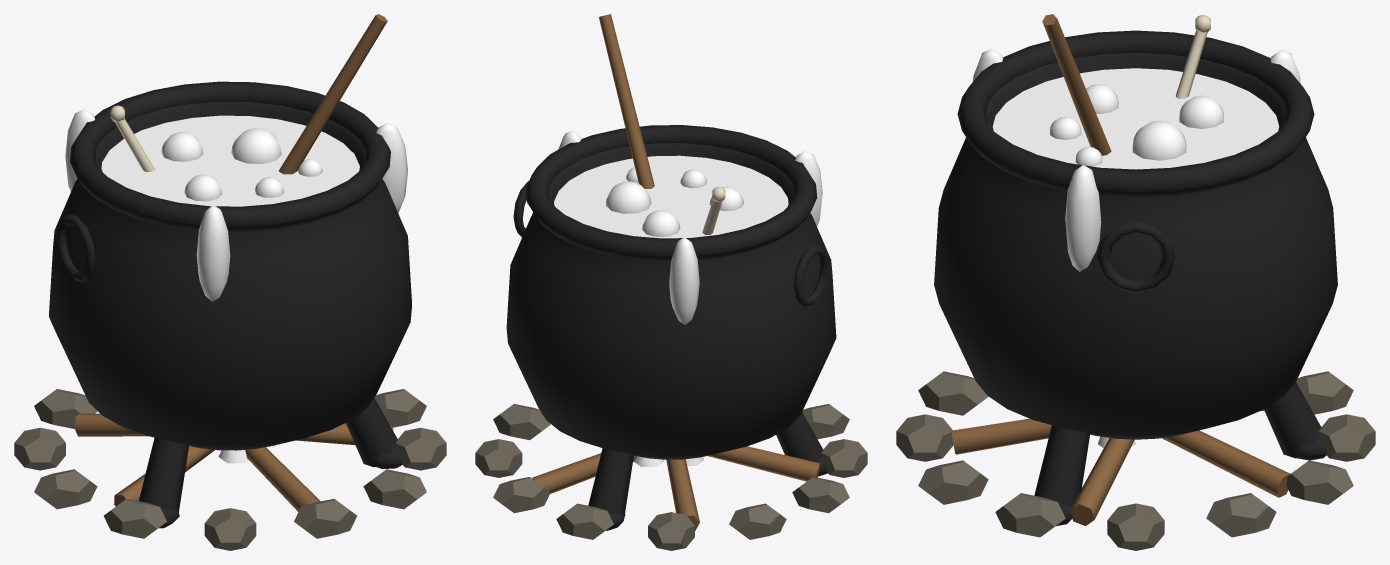
Rendered from GIANT_CAULDRON.glb.
3 renders of one model, left to right at view 1: azimuth 30°, elevation 25°; view 2: azimuth 150°, elevation 25°; view 3: azimuth 270°, elevation 25°, orthographic. The views are drawn at different scales.
Visible parts, largest first — view 1: tread_1, slime_2, stone_0, wood_3, bone_4; view 2: tread_1, slime_2, stone_0, wood_3, bone_4; view 3: tread_1, slime_2, stone_0, wood_3, bone_4.
Part boxes in pixels (x1,y1,x2,y2): tread_1: (49,81,411,528); slime_2: (65,109,407,301); stone_0: (14,389,446,550); wood_3: (74,14,393,511); bone_4: (110,105,155,171); tread_1: (506,125,836,530); slime_2: (554,130,822,324); stone_0: (475,404,867,550); wood_3: (532,14,820,530); bone_4: (702,186,725,234); tread_1: (934,30,1337,525); slime_2: (972,48,1300,271); stone_0: (896,371,1375,550); wood_3: (951,14,1290,526); bone_4: (1175,15,1210,98).
Size of the model in its own units: 6.16 by 6.96 by 6.02.
